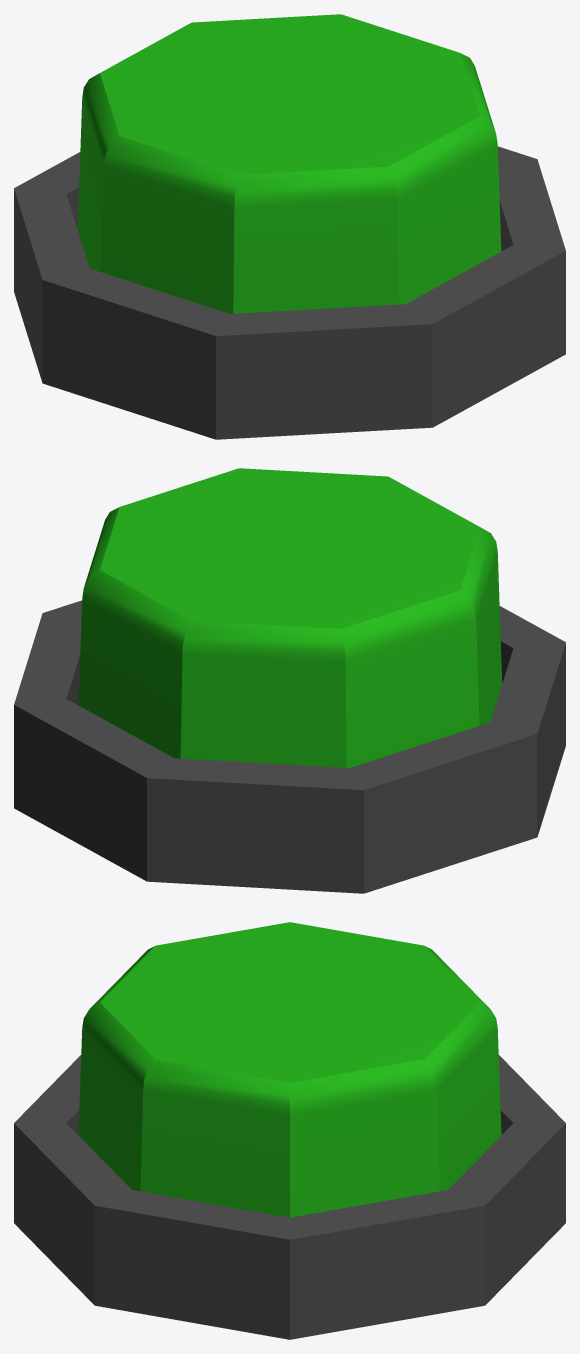
The model's file is buttons.fbx.
3 views of the same model, one above another, from view 1: azimuth 30°, elevation 25°; view 2: azimuth 150°, elevation 25°; view 3: azimuth 270°, elevation 25° (orthographic). The views are drawn at different scales.
Visible parts, largest first — view 1: onay, Cylinder; view 2: onay, Cylinder; view 3: onay, Cylinder.
Part boxes in pixels (x1=…): onay: x1=77, y1=14, x2=501, y2=313; Cylinder: x1=14, y1=146, x2=565, y2=439; onay: x1=78, y1=468, x2=502, y2=767; Cylinder: x1=14, y1=600, x2=565, y2=893; onay: x1=78, y1=922, x2=501, y2=1217; Cylinder: x1=14, y1=1055, x2=565, y2=1339.
Bounding box in the file's own units: 20 × 8.94 × 20.
